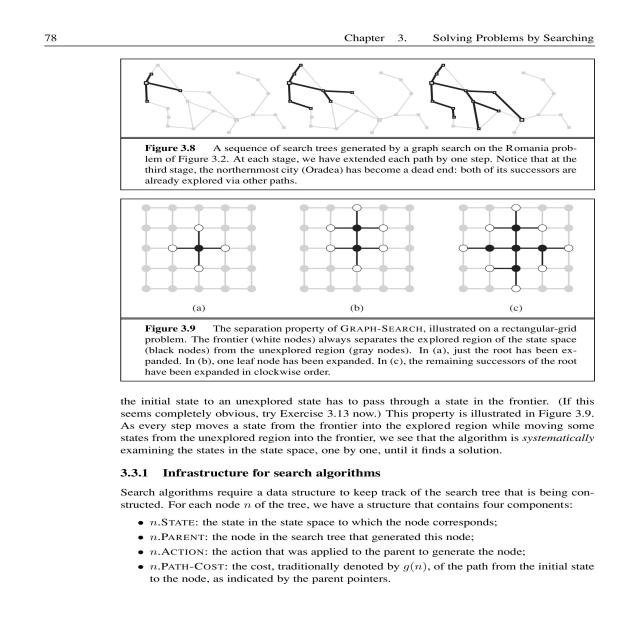diagram: (93, 56, 640, 382)
